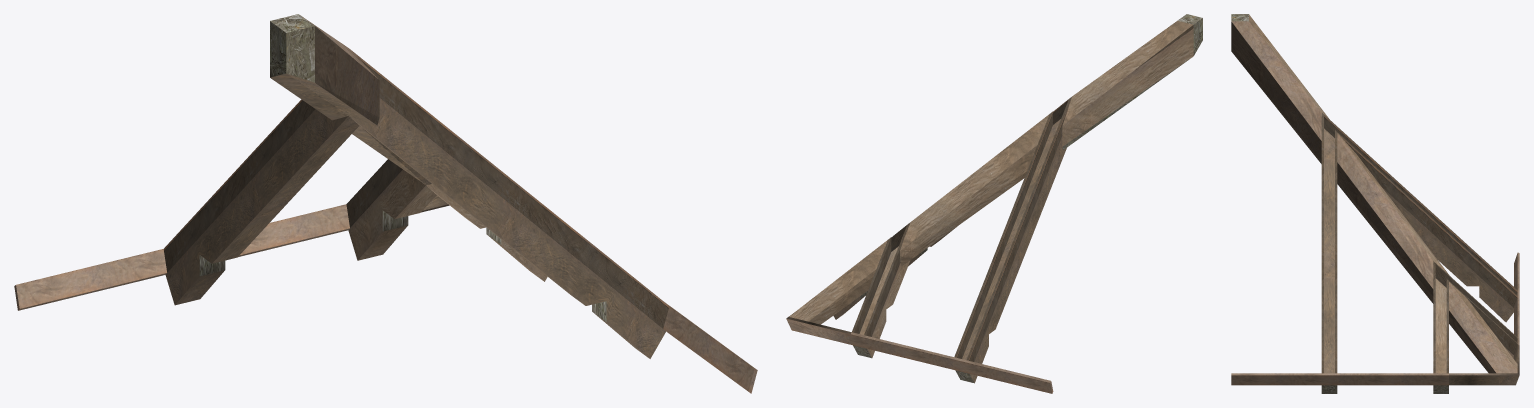
The model's file is RafterCornerCapC.fbx.
3 renders of one model, left to right at view 1: azimuth 30°, elevation 25°; view 2: azimuth 150°, elevation 25°; view 3: azimuth 270°, elevation 25°, orthographic. The views are drawn at different scales.
Parts seen in each view (by area): view 1: RafterCornerCapC; view 2: RafterCornerCapC; view 3: RafterCornerCapC.
Part boxes in pixels (bbox=[...]): RafterCornerCapC: bbox=[14, 14, 757, 393]; RafterCornerCapC: bbox=[786, 14, 1202, 393]; RafterCornerCapC: bbox=[1231, 14, 1519, 393].
Bounding box in the file's own units: 495 × 500 × 495.
